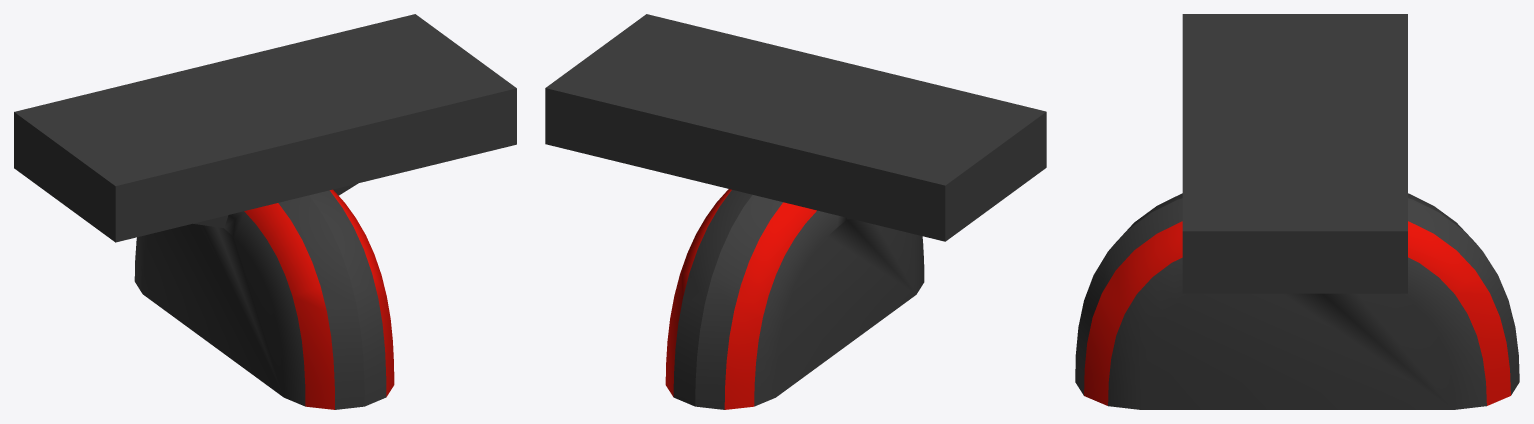
Rendered from Bottom.fbx.
3 views of the same model, side by side, from view 1: azimuth 30°, elevation 25°; view 2: azimuth 150°, elevation 25°; view 3: azimuth 270°, elevation 25° (orthographic). The views are drawn at different scales.
Visible parts, largest first — view 1: Bottom; view 2: Bottom; view 3: Bottom.
Part boxes in pixels (<box>): Bottom: <box>14,14,516,409</box>; Bottom: <box>545,14,1046,409</box>; Bottom: <box>1075,14,1519,409</box>.
Bounding box in the file's own units: 104 × 57.97 × 89.98.
